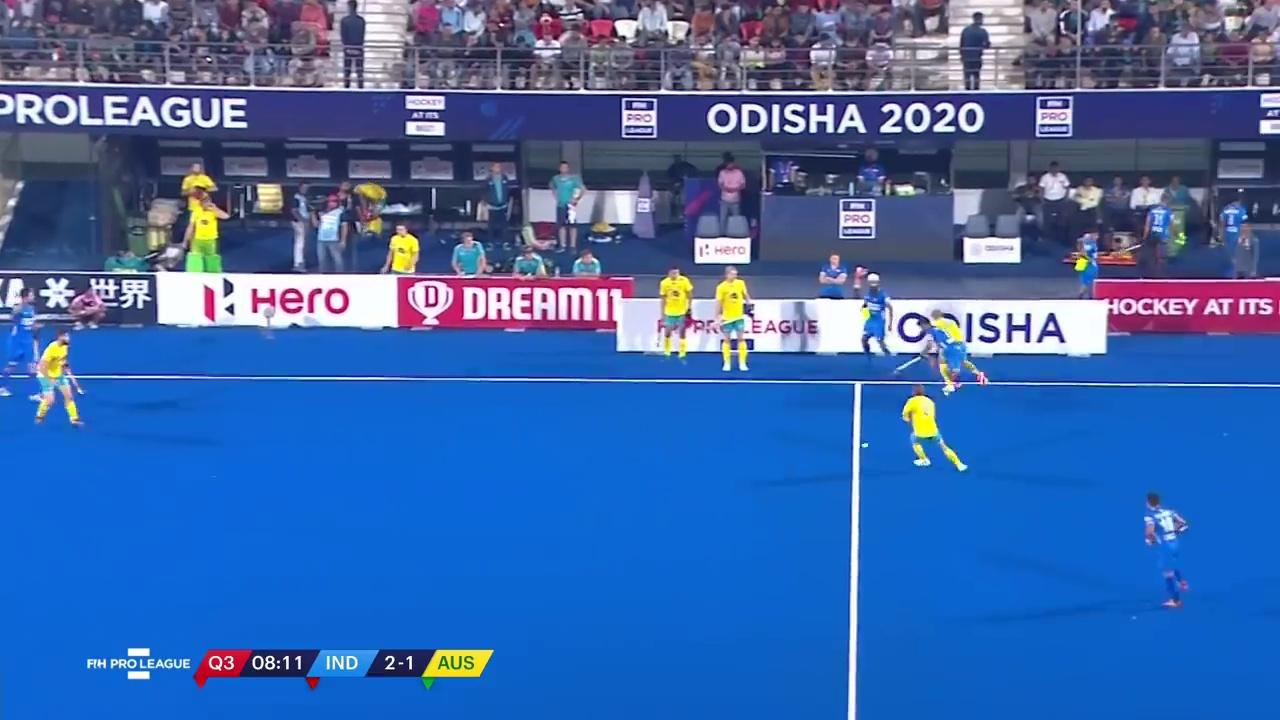ball: (860, 438, 871, 451)
